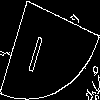I: (25, 25, 49, 74)
